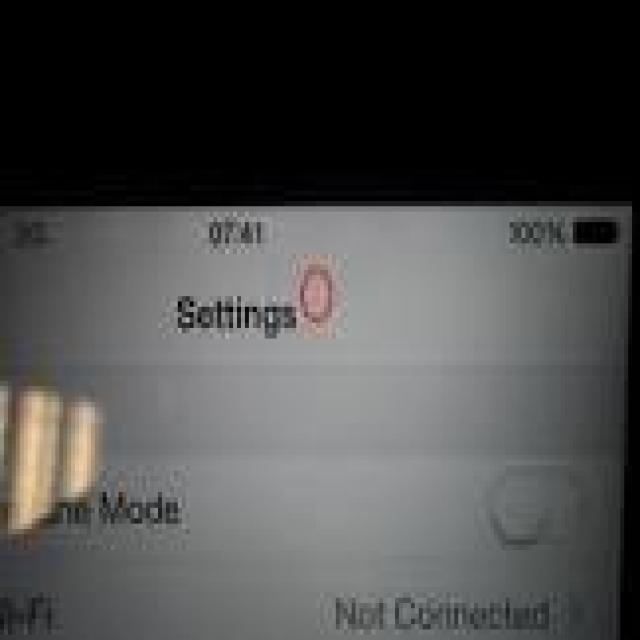dead_pixel: (293, 253, 345, 342)
